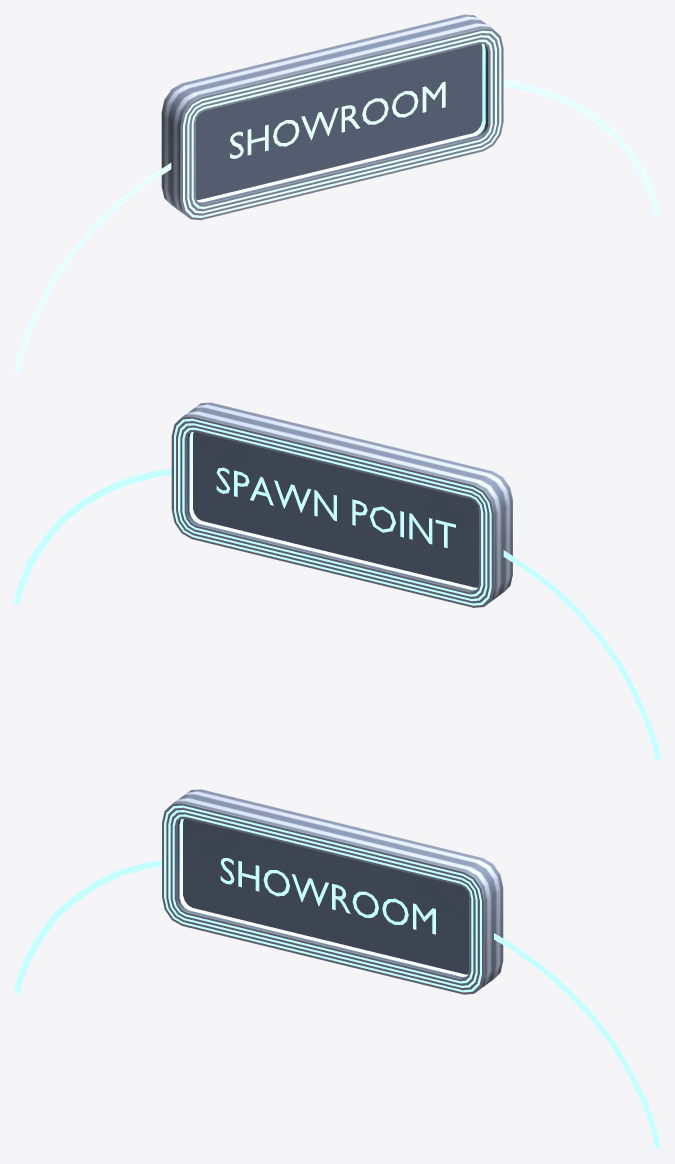
File: obj_sign01.gltf
3 renders of one model, top to bottom at view 1: azimuth 30°, elevation 25°; view 2: azimuth 150°, elevation 25°; view 3: azimuth 330°, elevation 25°, orthographic.
Visible parts, largest first — view 1: obj_sign01; view 2: obj_sign01; view 3: obj_sign01.
Boxes of the visible parts, bbox=[...] form: obj_sign01: bbox=[14, 14, 660, 373]; obj_sign01: bbox=[14, 402, 660, 760]; obj_sign01: bbox=[14, 789, 660, 1149].
Size of what is drawn, in the model's own units: 8.55 by 3.03 by 0.439.
2 materials, 1 textured.
